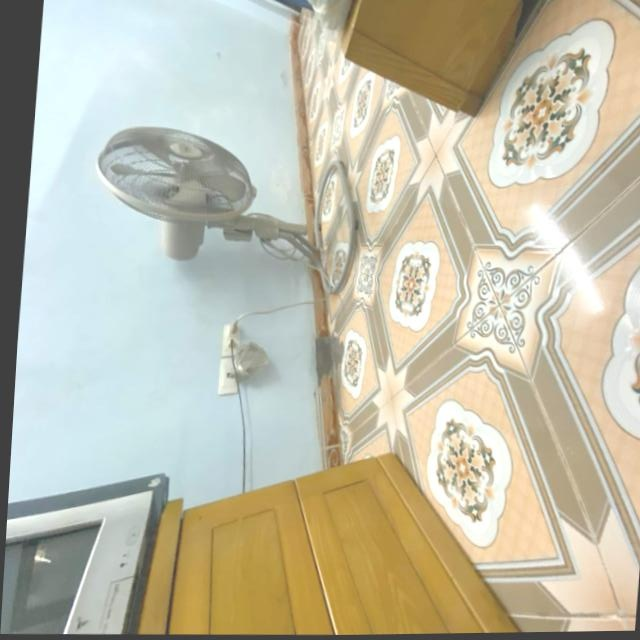outlet: (217, 359, 241, 397), (220, 323, 242, 357)
